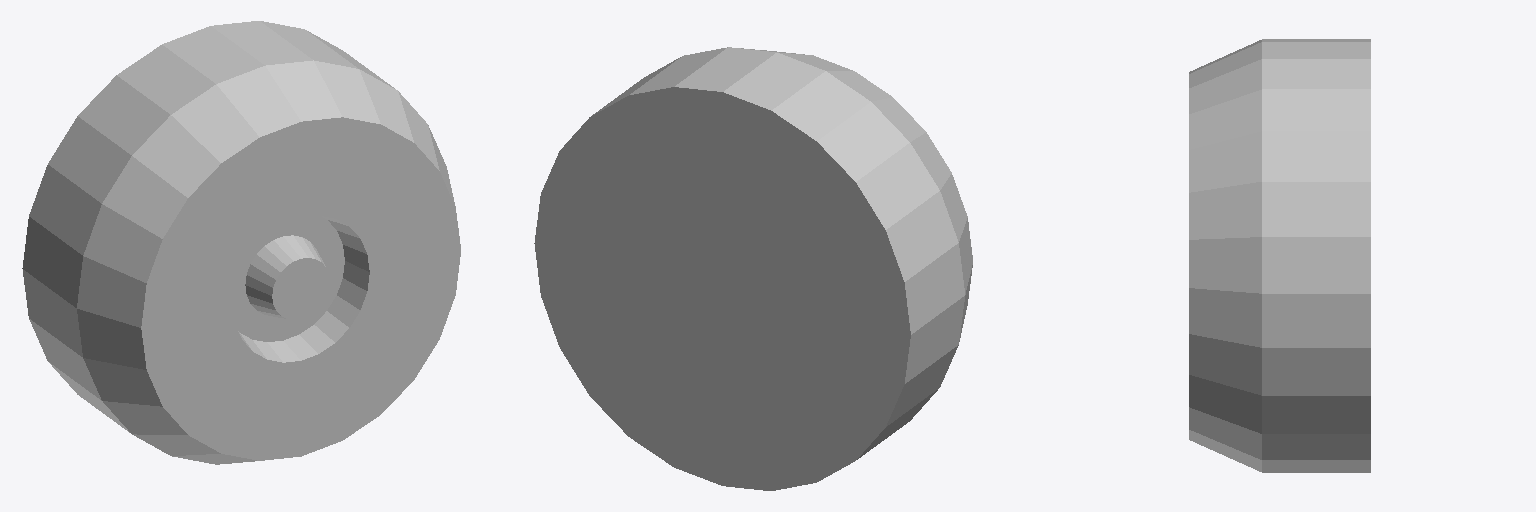
The model's file is wheelTruck.obj.
3 views of the same model, side by side, from view 1: azimuth 30°, elevation 25°; view 2: azimuth 150°, elevation 25°; view 3: azimuth 270°, elevation 25° (orthographic).
Visible parts, largest first — view 1: wheelTruck; view 2: wheelTruck; view 3: wheelTruck.
Boxes of the visible parts, x1,y1,x2,y2 form: wheelTruck: [22, 21, 460, 464]; wheelTruck: [534, 47, 972, 490]; wheelTruck: [1189, 39, 1370, 472].
Bounding box in the file's own units: 0.45 × 0.45 × 0.1875.